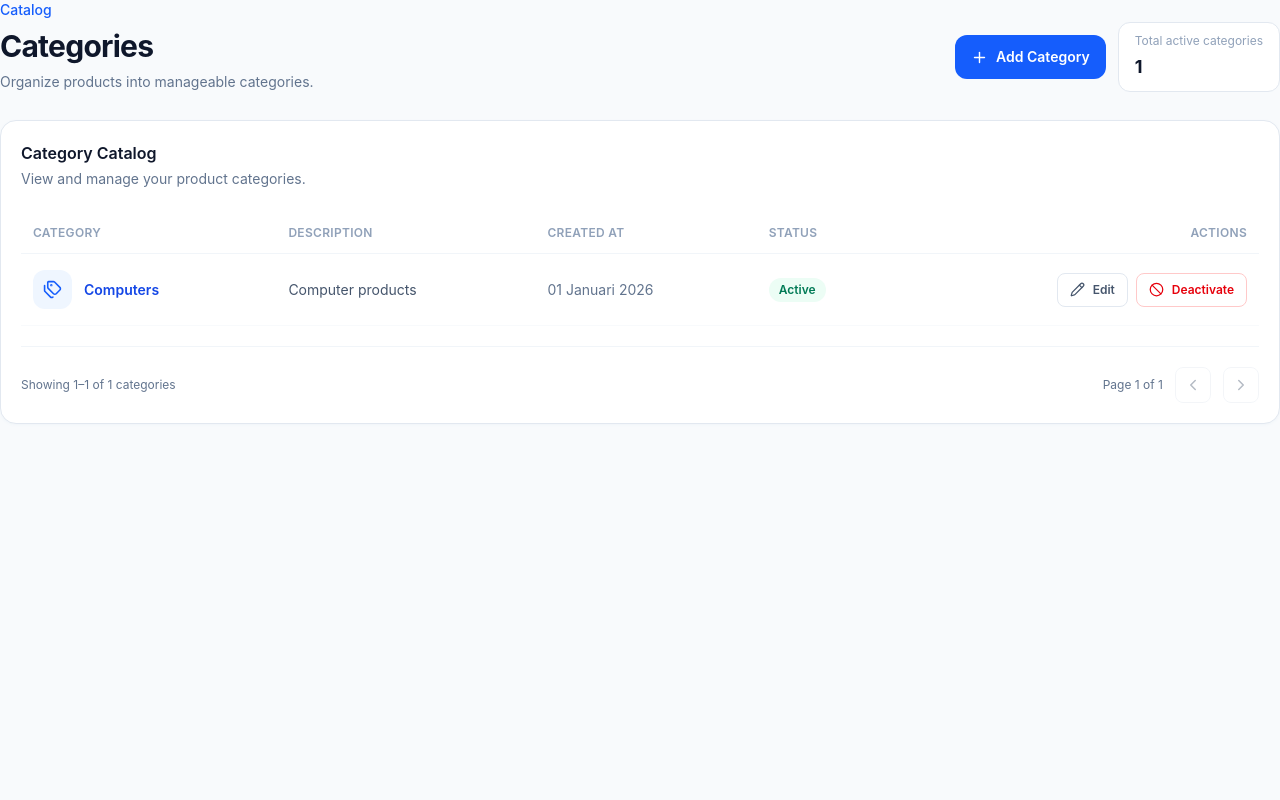
Scenario: CategoriesPage › deactivates a category after confirmation
Expected: the link "Computers" is shown, [84,280,159,300]
Click the button with aria-label "Deactivate Computers" at (1191, 290), box [1136,272,1247,306]
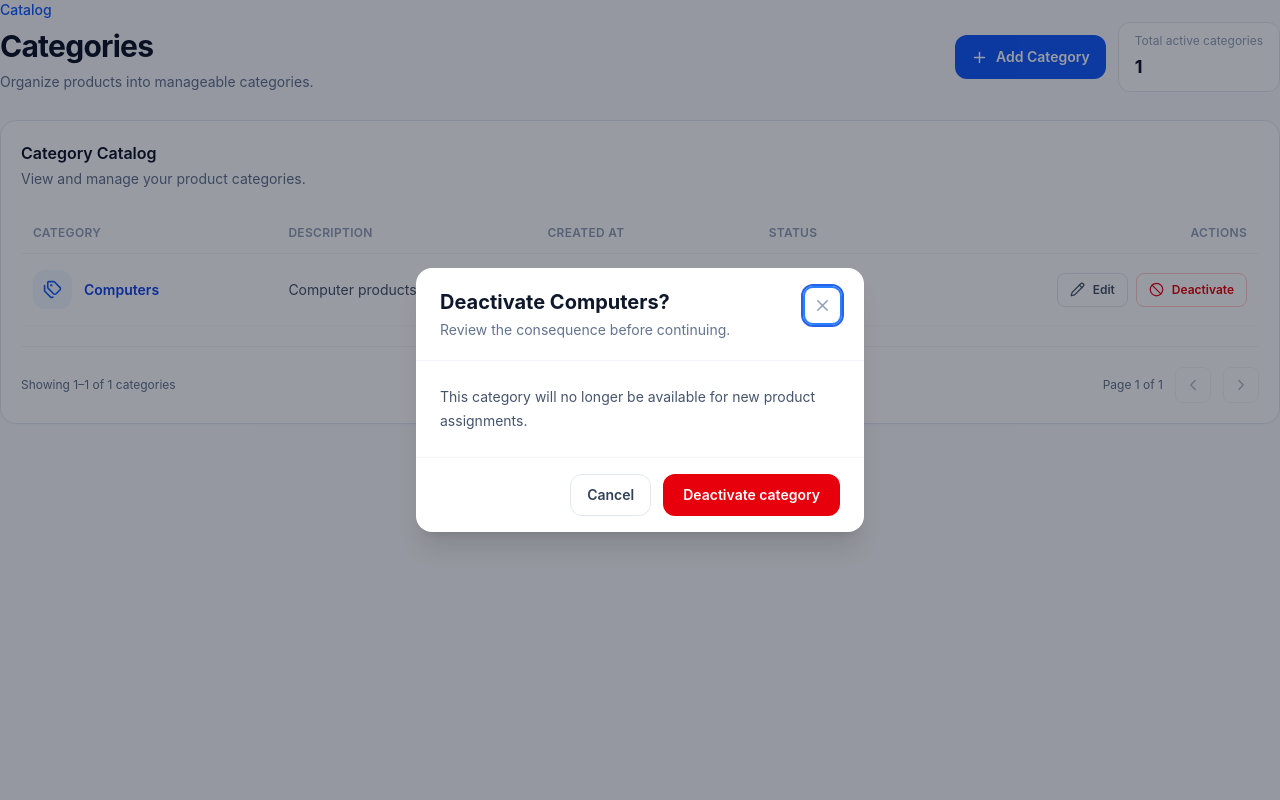
Click the button "Deactivate category" at (752, 495), box [663,474,840,516]
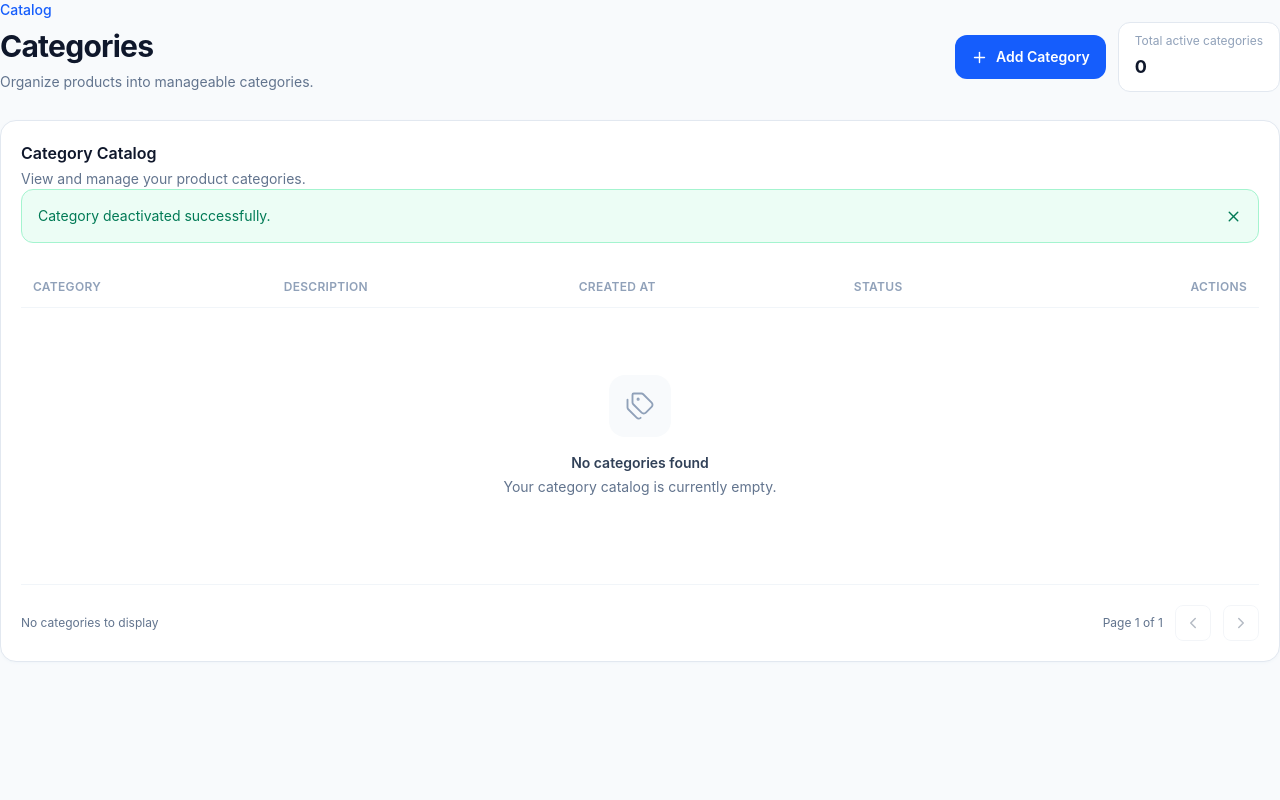
Expected: the link "Computers" is gone
Expected: the heading "No categories found" is shown, [571,453,709,473]
